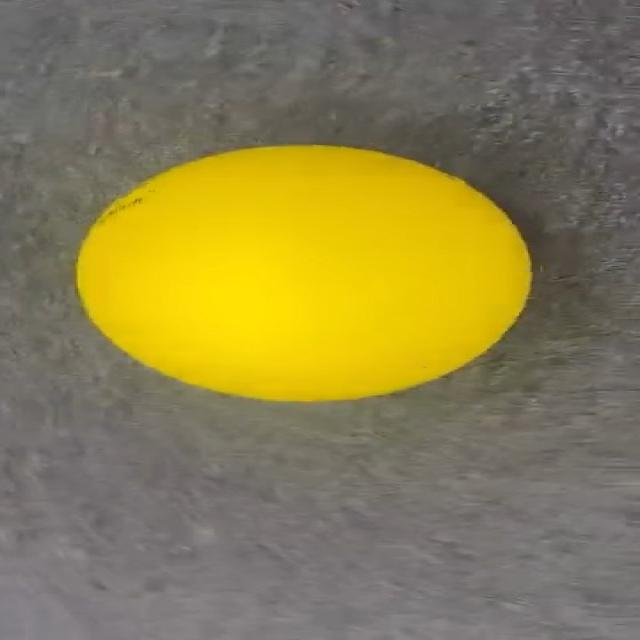Fuels: (76, 146, 528, 399)
